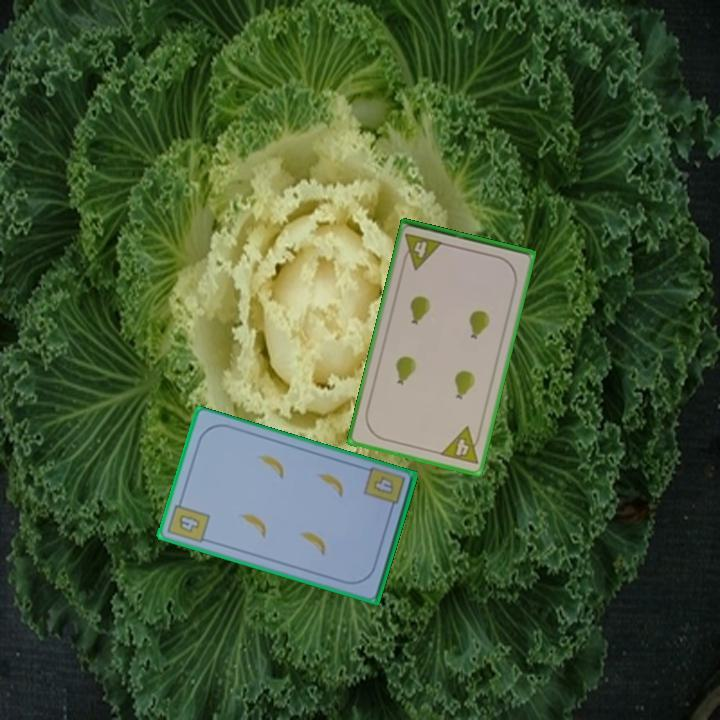4b: (164, 495, 213, 546), (369, 473, 397, 498)
4p: (436, 423, 485, 467), (399, 230, 446, 272)
